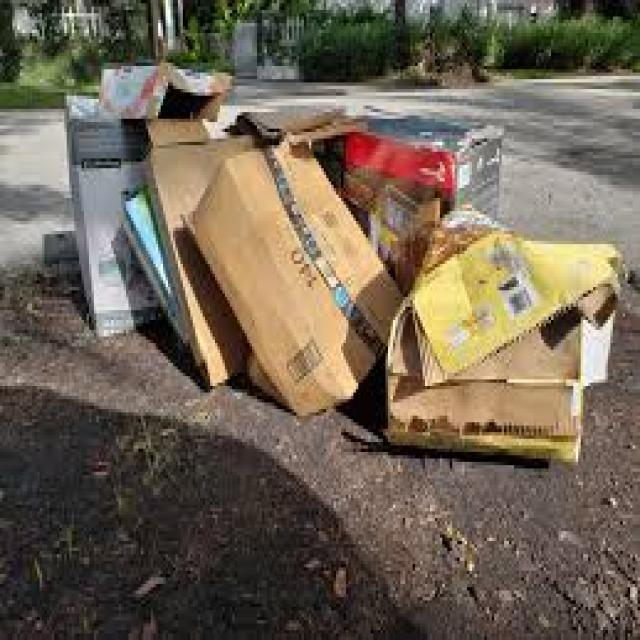cardboard: (388, 194, 623, 468), (193, 138, 395, 416), (54, 82, 176, 353)
